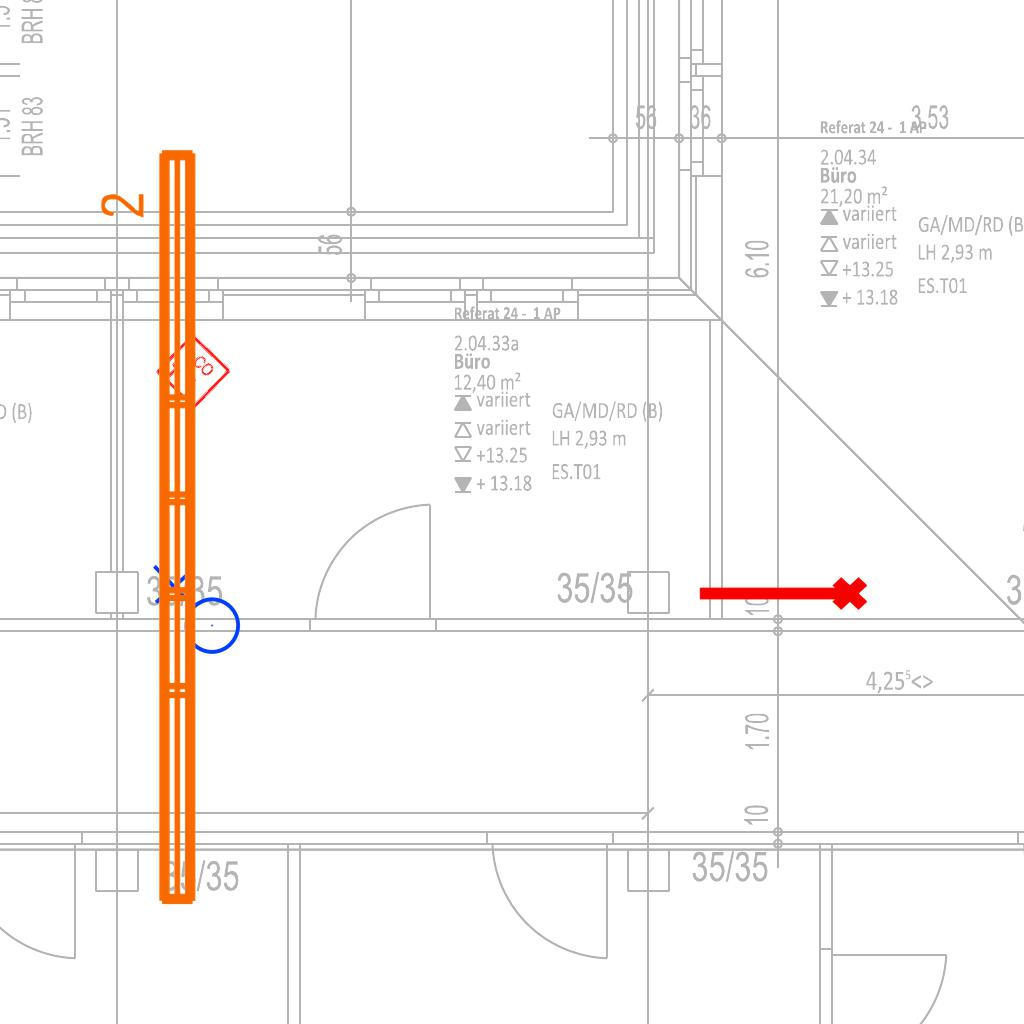ASR_Ansaugoeffnung: (694, 573, 870, 619)
Ambulanz_Pendelleuchte_LED: (96, 141, 208, 915)
Elektroanschluss_allgemein_230V_Geraeteanschlussdose_230V: (148, 564, 242, 663)
ROA_Rauchmelder_optisch_mit_Signalgeber_(Sockelsirene): (153, 332, 233, 412)
